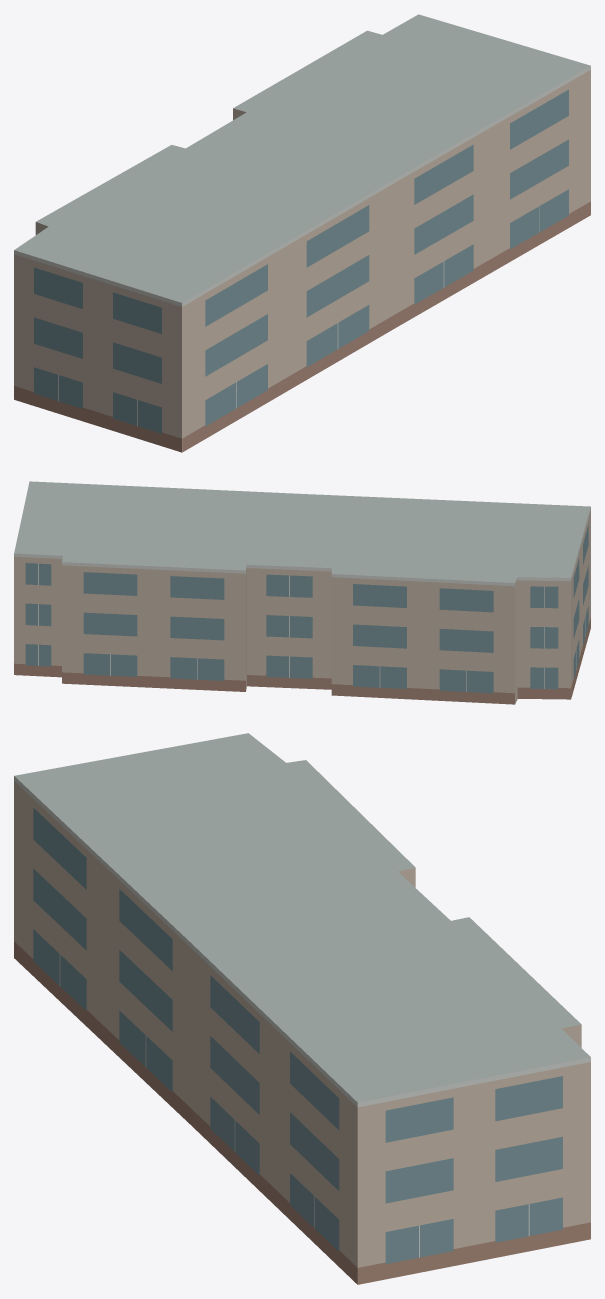
File: survey-upis-32946552.glb
3 views of the same model, one above another, from view 1: azimuth 30°, elevation 25°; view 2: azimuth 150°, elevation 25°; view 3: azimuth 270°, elevation 25° (orthographic). The views are drawn at different scales.
Parts seen in each view (by area): view 1: survey-upis-32946552.tmp; view 2: survey-upis-32946552.tmp; view 3: survey-upis-32946552.tmp.
Part boxes in pixels (<box>): survey-upis-32946552.tmp: <box>14,14,590,452</box>; survey-upis-32946552.tmp: <box>14,481,590,704</box>; survey-upis-32946552.tmp: <box>14,733,590,1284</box>.
Size of the model in its own units: 39.81 by 9.15 by 26.26.
